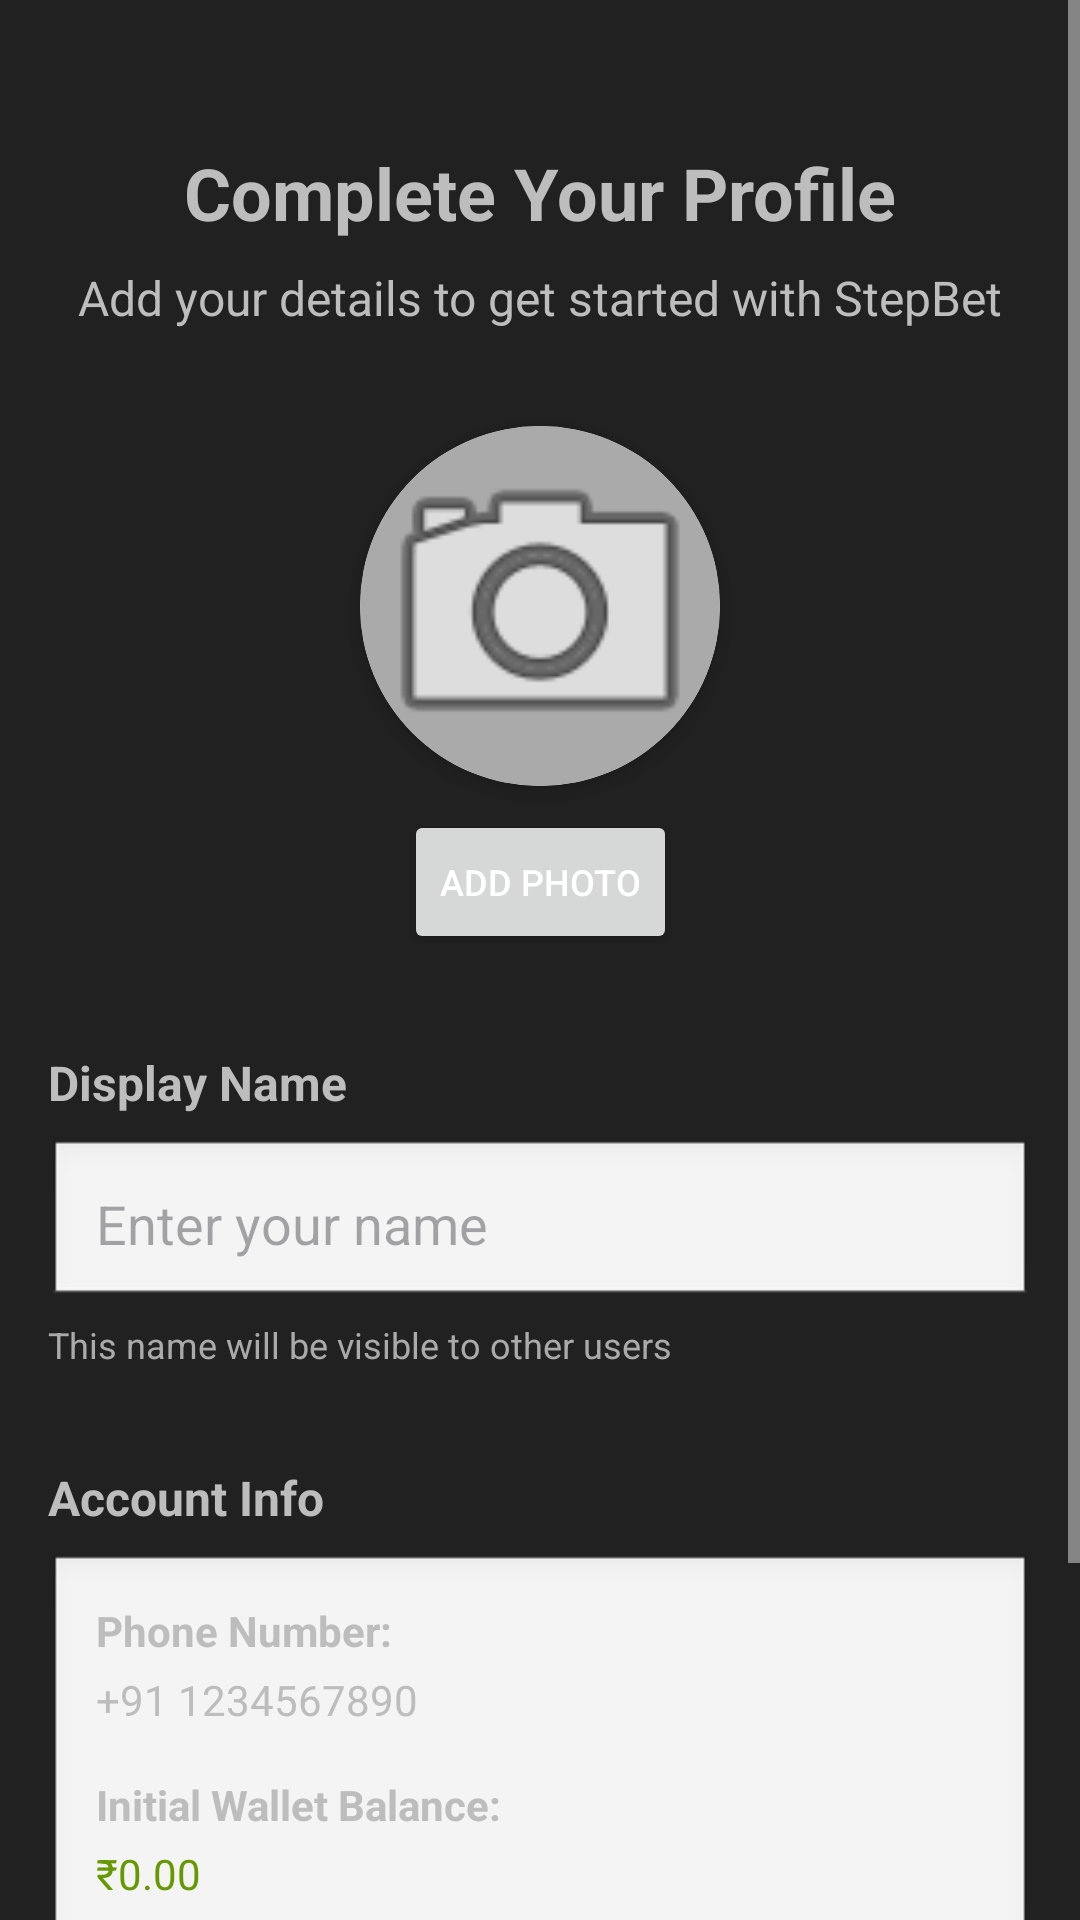

Icon bounding boxes for this 1080px×1920px phone screenshot, format (x1, y1, x2, y2):
Profile Picture: (360, 426, 720, 786)
